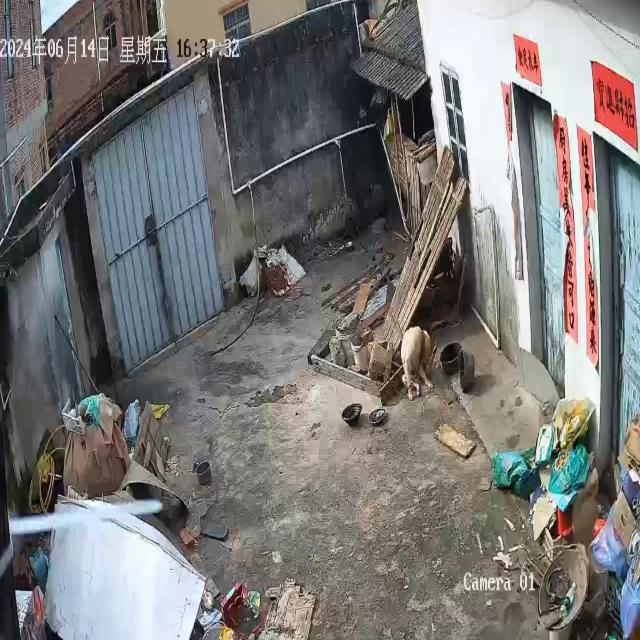dog: (401, 327, 436, 403)
